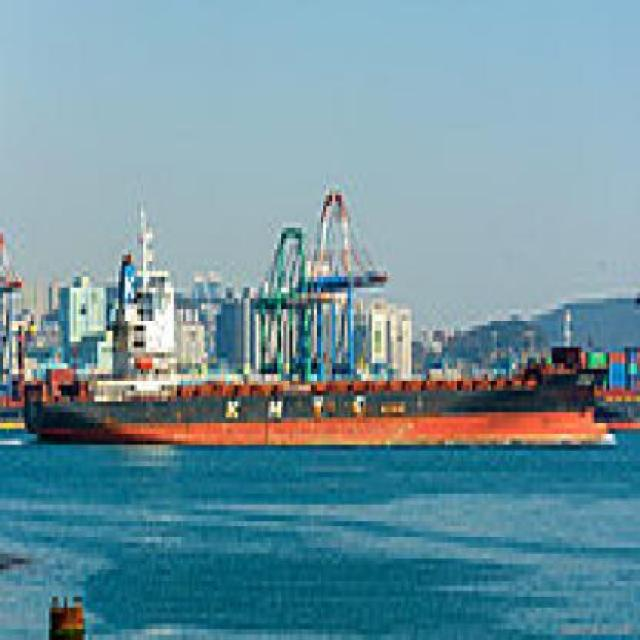container: (20, 245, 620, 462)
